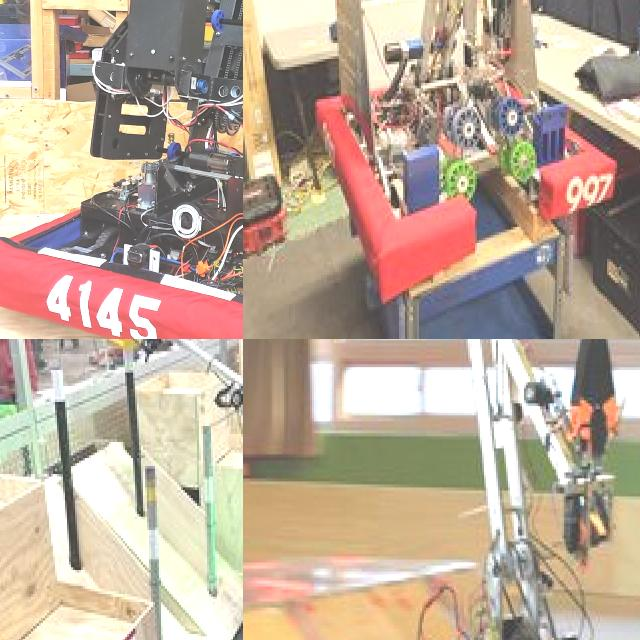FRC-Robots: (246, 0, 636, 264), (0, 0, 243, 339), (380, 339, 640, 640), (70, 339, 243, 640)
